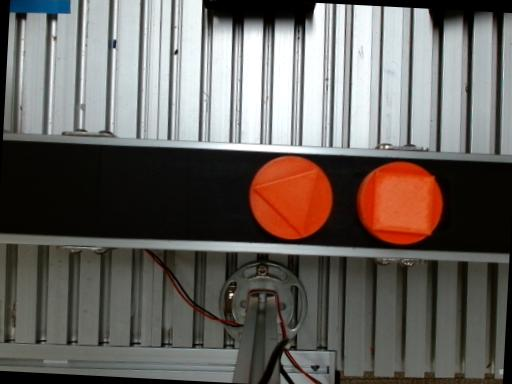Not_Square: (252, 169, 319, 239)
Orange_Waper: (248, 156, 331, 240), (356, 163, 442, 244)
Square: (372, 171, 433, 235)
